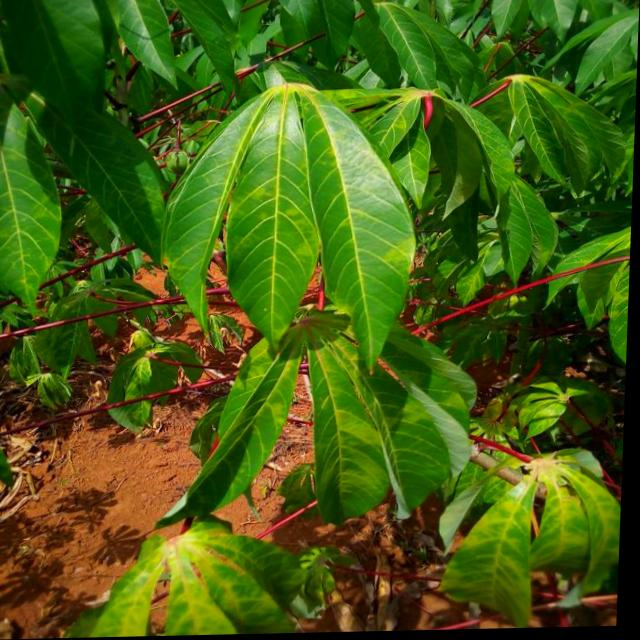Mosaico: (168, 56, 422, 294), (219, 314, 485, 471), (503, 430, 637, 608), (102, 514, 291, 640)
